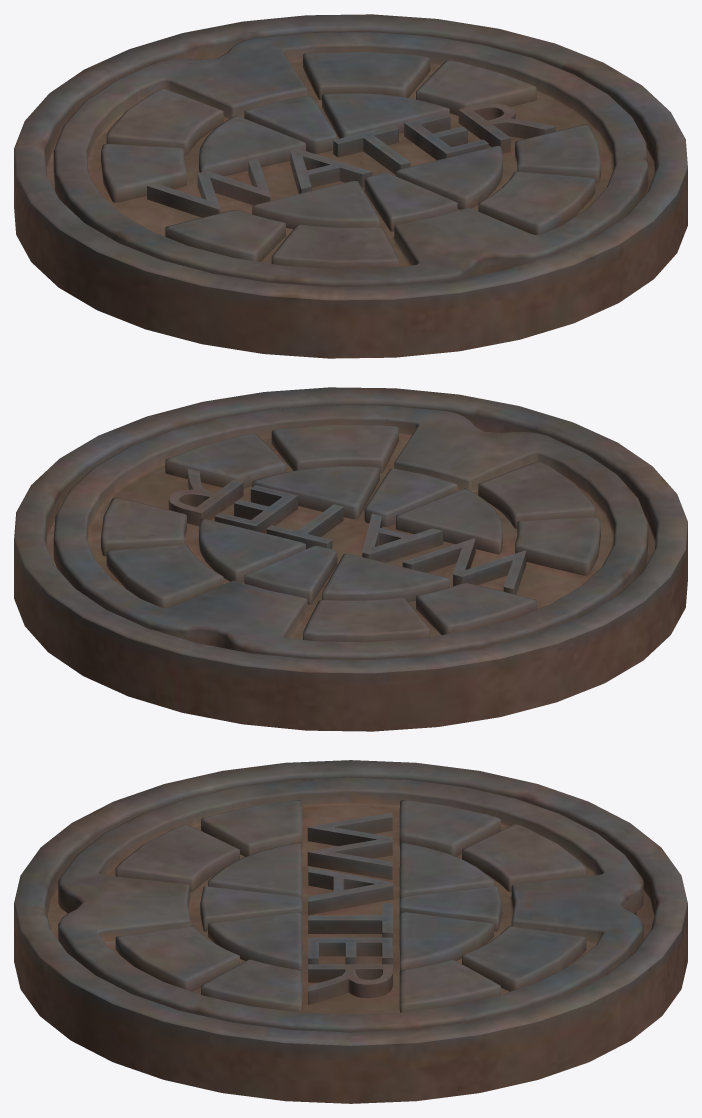
The model's file is water_manhole_cover.glb.
3 views of the same model, one above another, from view 1: azimuth 30°, elevation 25°; view 2: azimuth 150°, elevation 25°; view 3: azimuth 270°, elevation 25° (orthographic).
Parts seen in each view (by area): view 1: water_manhole_cover, water_manhole_cover_frame; view 2: water_manhole_cover, water_manhole_cover_frame; view 3: water_manhole_cover, water_manhole_cover_frame.
Part boxes in pixels (x1,y1,x2,y2): water_manhole_cover: (53,32,648,286); water_manhole_cover_frame: (14,14,687,358); water_manhole_cover: (53,405,648,659); water_manhole_cover_frame: (14,387,687,731); water_manhole_cover: (58,777,643,1032); water_manhole_cover_frame: (14,760,687,1103).
Bounding box in the file's own units: 0.6908 × 0.0676 × 0.6908.
1 material, 1 textured.
